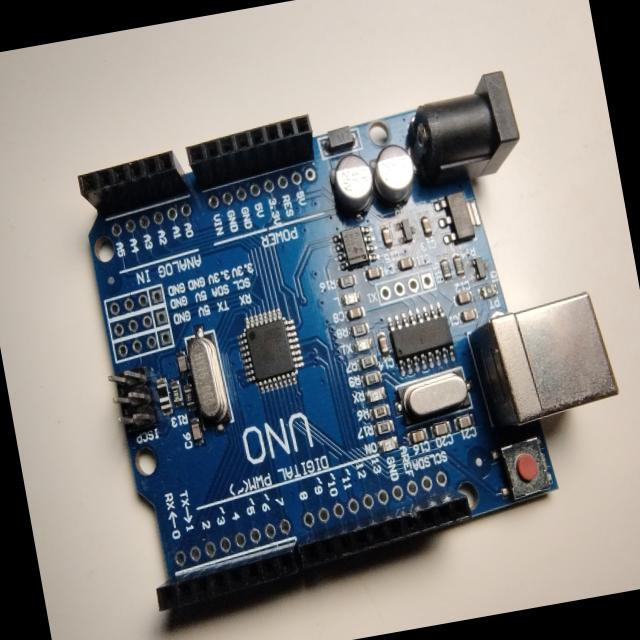arduino: (58, 72, 640, 629)
